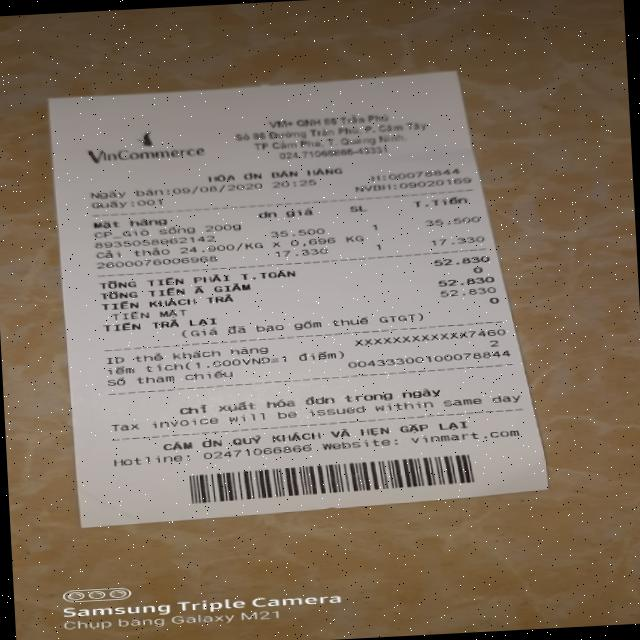Date: (168, 180, 266, 196)
Store_Name: (80, 141, 212, 168)
amount_number: (430, 254, 492, 266)
label_total: (95, 267, 308, 290)
